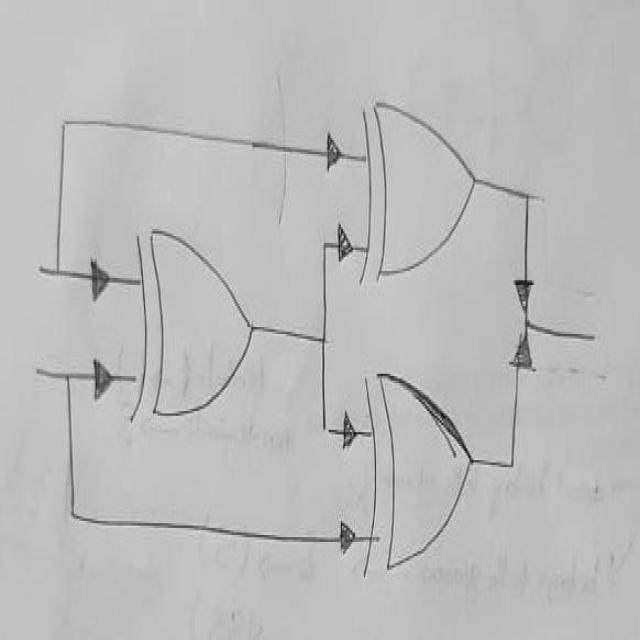XOR: (124, 208, 268, 446), (348, 88, 495, 296), (358, 350, 484, 581)
